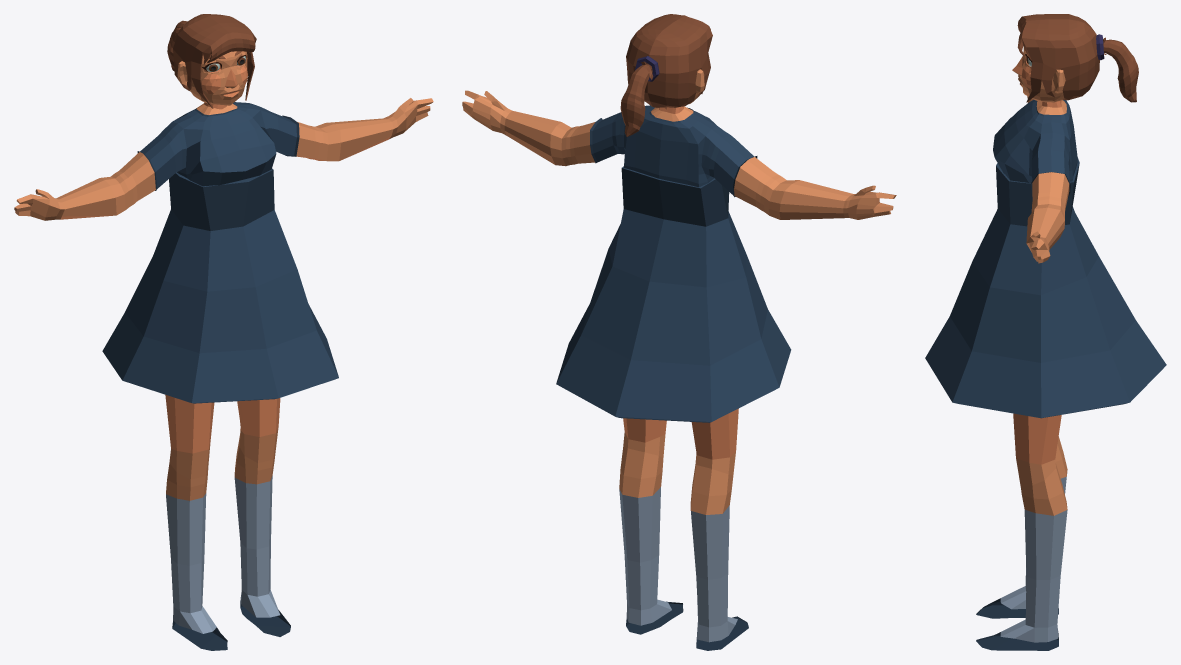
File: Claire_3D_Model.fbx
The picture shows the model from 3 angles, left to right: view 1: azimuth 30°, elevation 25°; view 2: azimuth 150°, elevation 25°; view 3: azimuth 270°, elevation 25°; orthographic projection. The views are drawn at different scales.
Visible parts, largest first — view 1: body_mesh, skirt; view 2: body_mesh, skirt; view 3: skirt, body_mesh.
Boxes of the visible parts, x1=… form: body_mesh: x1=14, y1=14, x2=433, y2=650; skirt: x1=102, y1=168, x2=338, y2=403; body_mesh: x1=462, y1=14, x2=896, y2=650; skirt: x1=556, y1=166, x2=791, y2=422; skirt: x1=925, y1=157, x2=1166, y2=418; body_mesh: x1=976, y1=14, x2=1138, y2=650.
Bounding box in the file's own units: 383 × 523 × 188.
